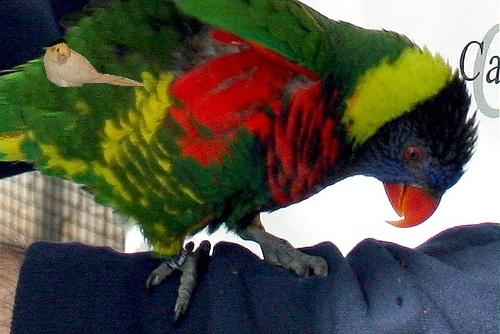tampered: (44, 43, 151, 87)
